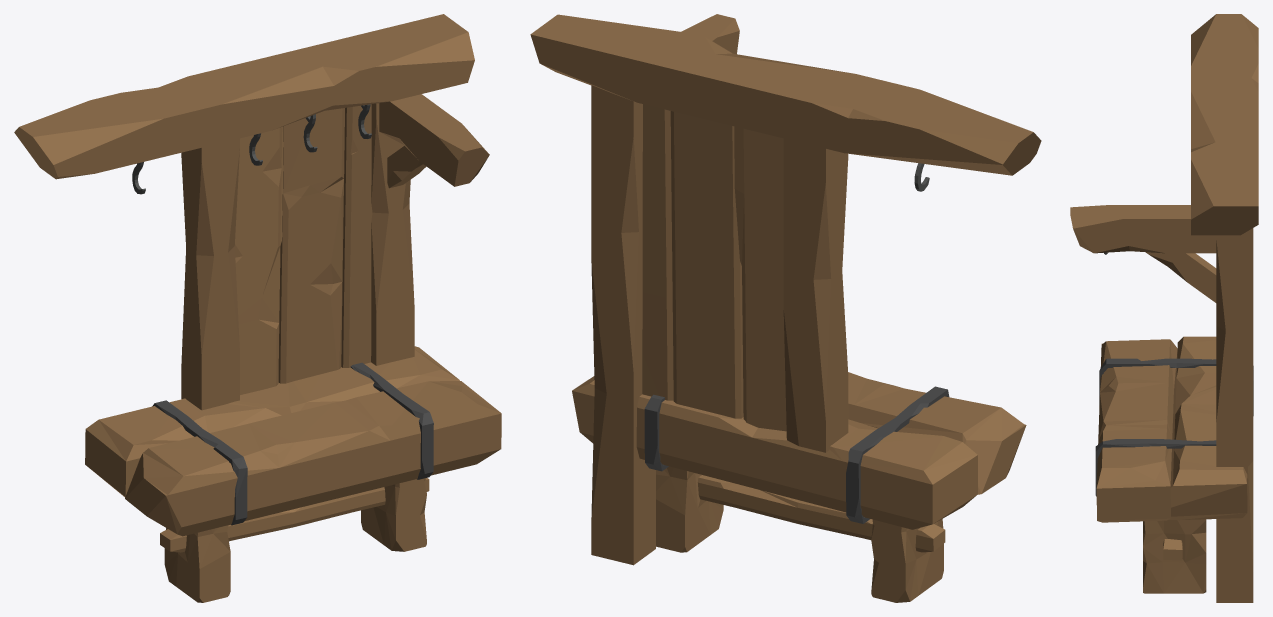
Rendered from SFWC2_Crafting_Table.fbx.
3 renders of one model, left to right at view 1: azimuth 30°, elevation 25°; view 2: azimuth 150°, elevation 25°; view 3: azimuth 270°, elevation 25°, orthographic. The views are drawn at different scales.
Visible parts, largest first — view 1: SFWC2_Table; view 2: SFWC2_Table; view 3: SFWC2_Table.
Part boxes in pixels (left/top/right/bottom): SFWC2_Table: left=14, top=14, right=501, bottom=602; SFWC2_Table: left=530, top=14, right=1041, bottom=602; SFWC2_Table: left=1070, top=14, right=1258, bottom=602.
Size of the model in its own units: 308 by 316 by 128.
